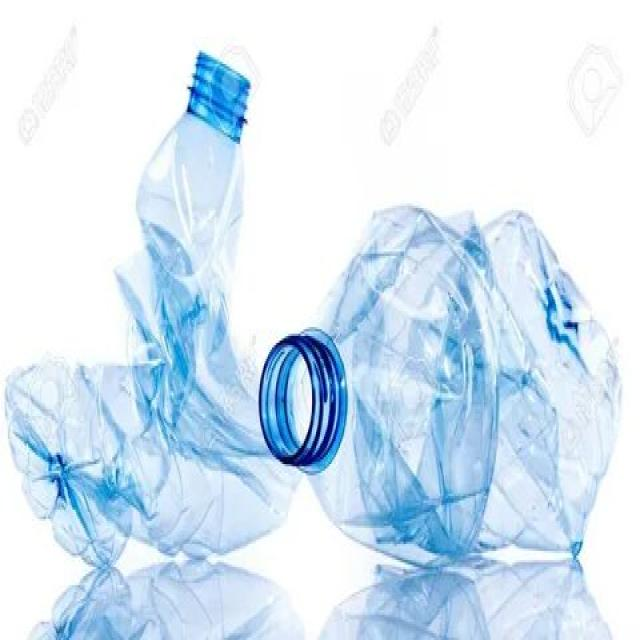blue: (5, 44, 304, 567), (260, 201, 622, 558)
